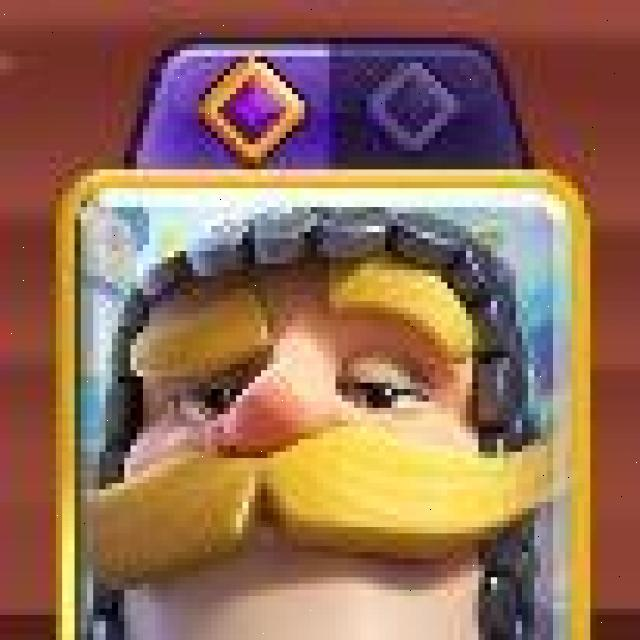Knight: (63, 172, 588, 640)
